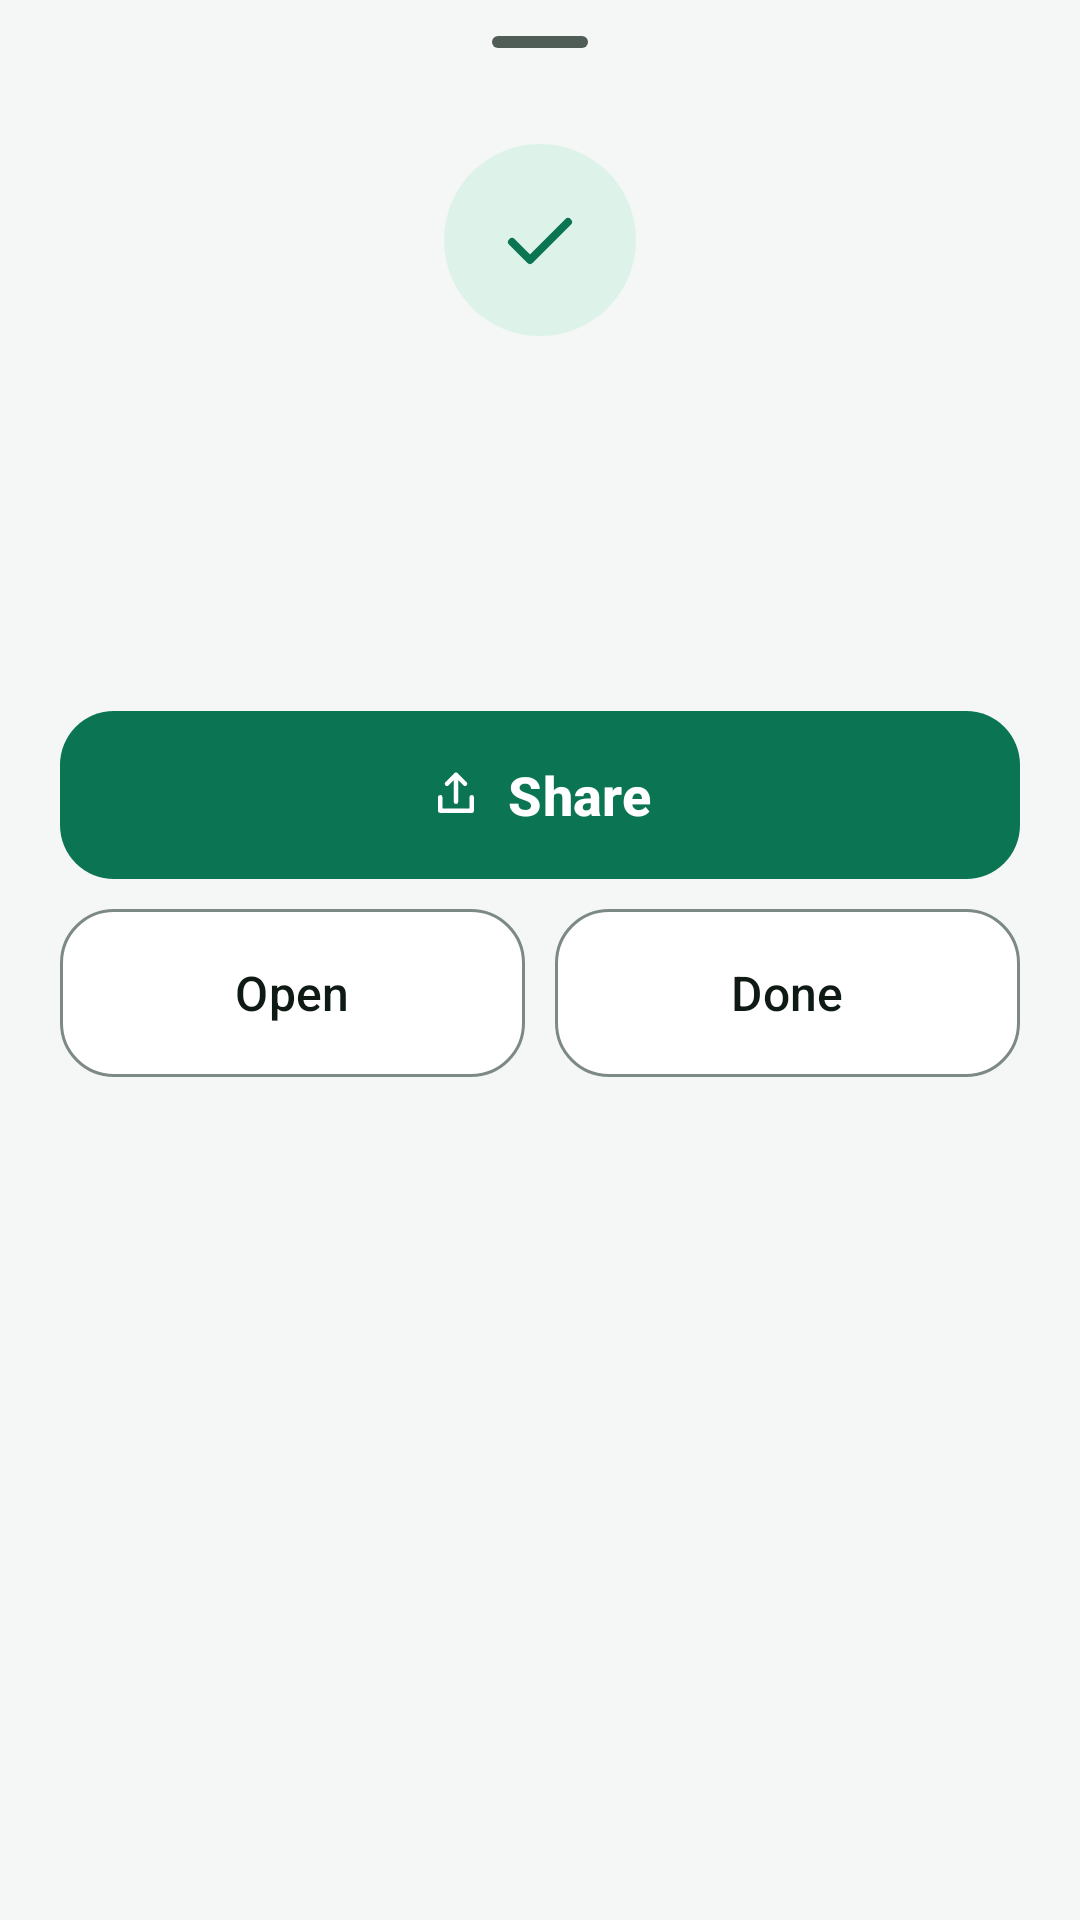

Locate icon controls on the screen. Image size 1080w x 1920h, boxes as region(x1, y1, x2, y2).
check: region(444, 144, 636, 336)
